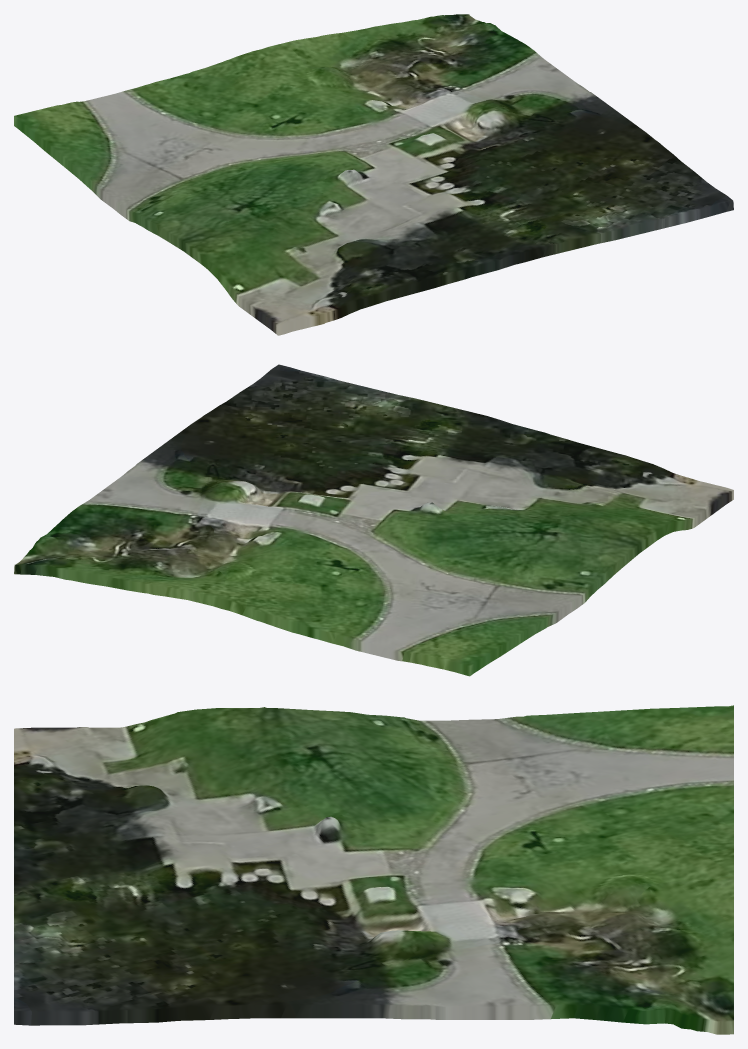
Rendered from z20-167768-405194-h0-yup-uvflip-v3-world.glb.
3 renders of one model, top to bottom at view 1: azimuth 30°, elevation 25°; view 2: azimuth 150°, elevation 25°; view 3: azimuth 270°, elevation 25°, orthographic. The views are drawn at different scales.
Bounding box in the file's own units: 30.2 × 2.24 × 30.32.
1 material, 1 textured.
